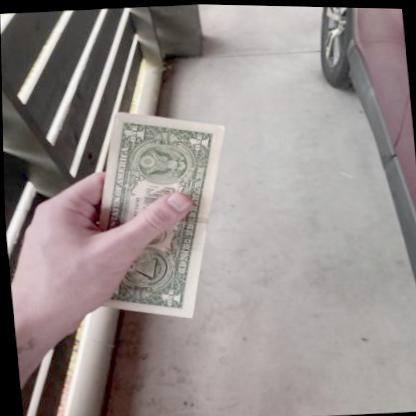one-back: (82, 111, 226, 319)
